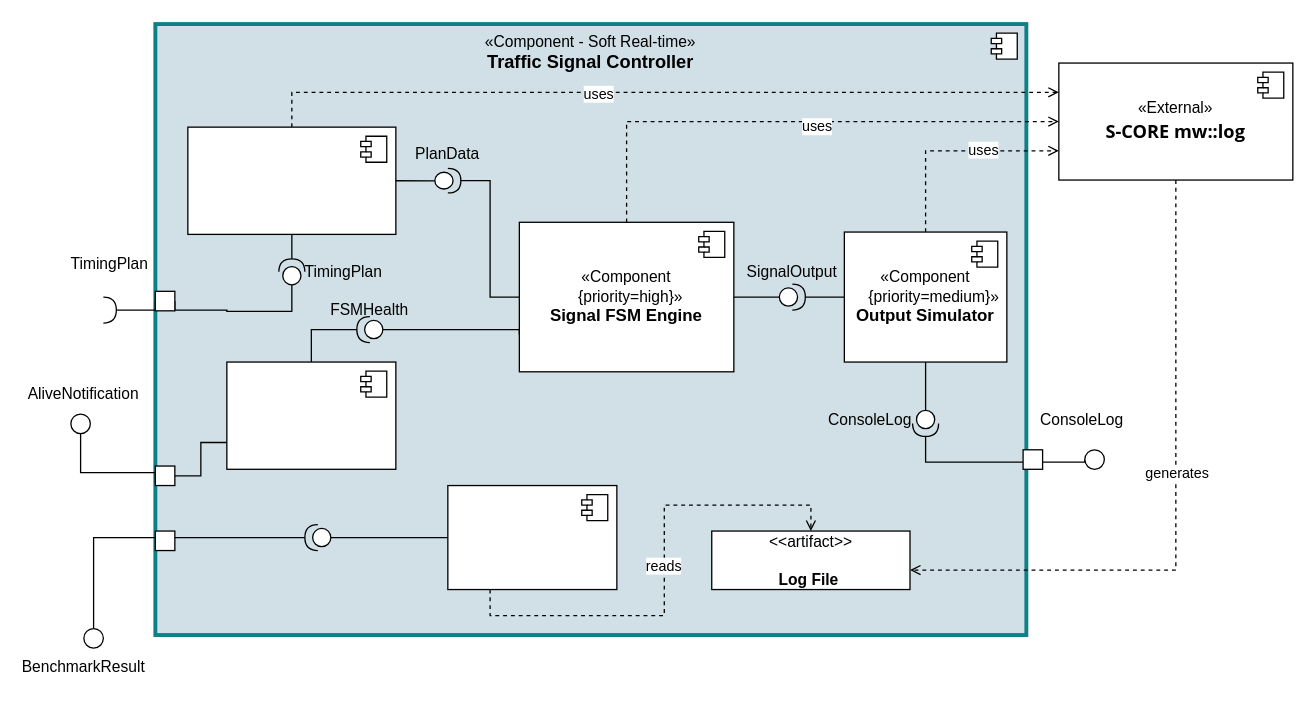
The diagram is 1316 pixels wide and 710 high, and some of its shapes have lost their labels. The shapes that lost their labels are listed below. From the top down, each one's centre as x and y in pixels, then its label:
the point at 291,180: «Component {priority=low}» Plan Receiver
the point at 311,415: «Component» Health Monitor
the point at 532,537: «Component» Analytics
